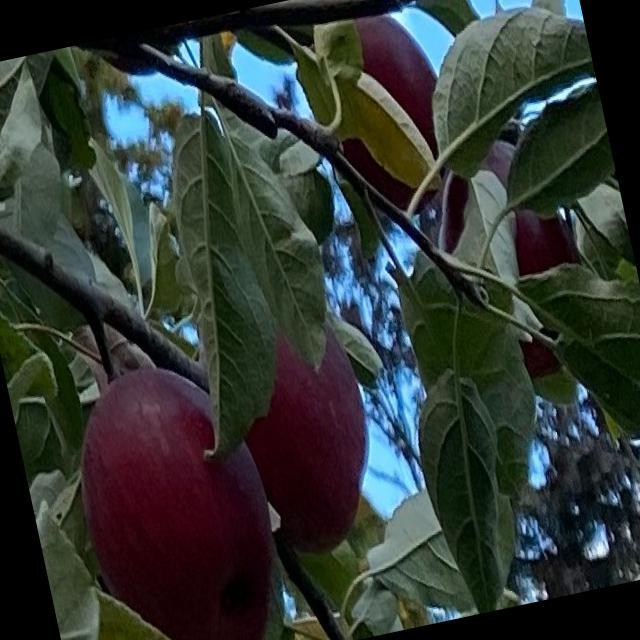100-_ripeness: (61, 352, 301, 639), (416, 131, 602, 389), (222, 311, 394, 563), (316, 4, 463, 218)
